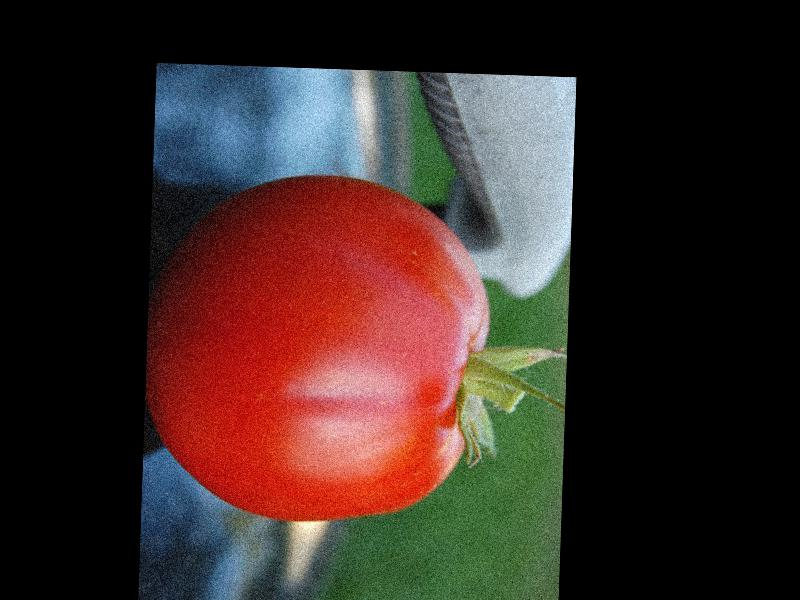Tomato: (140, 168, 494, 528)
